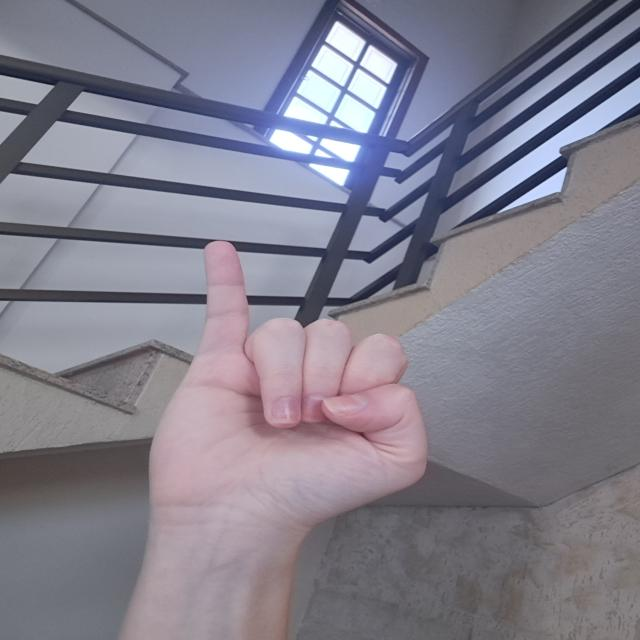I: (141, 239, 437, 541)
